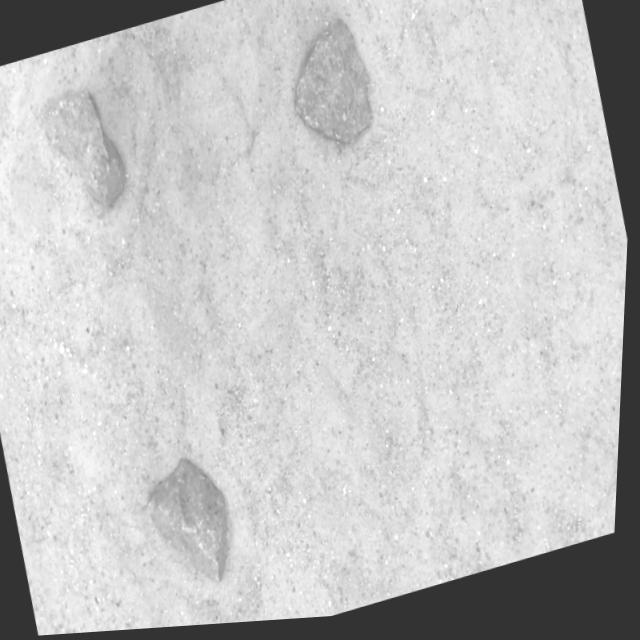rock: (151, 462, 230, 586), (41, 92, 125, 207), (295, 23, 371, 147)
